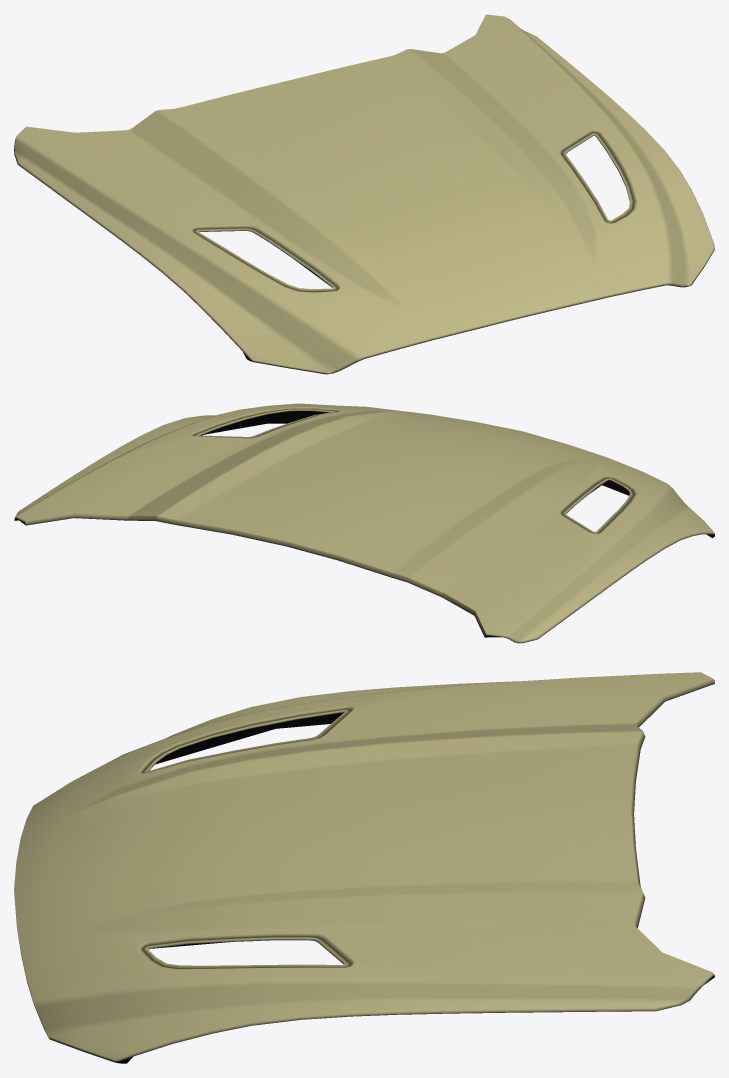
Rendered from Mustang16_Hood_02_Duco.fbx.
3 views of the same model, one above another, from view 1: azimuth 30°, elevation 25°; view 2: azimuth 150°, elevation 25°; view 3: azimuth 270°, elevation 25° (orthographic). The views are drawn at different scales.
Parts seen in each view (by area): view 1: Mustang16_Hood_02_Duco; view 2: Mustang16_Hood_02_Duco; view 3: Mustang16_Hood_02_Duco.
Part boxes in pixels (x1,y1,x2,y2): Mustang16_Hood_02_Duco: [14, 14, 714, 374]; Mustang16_Hood_02_Duco: [14, 403, 714, 643]; Mustang16_Hood_02_Duco: [14, 672, 714, 1063].
Bounding box in the file's own units: 168 × 26.72 × 149.
